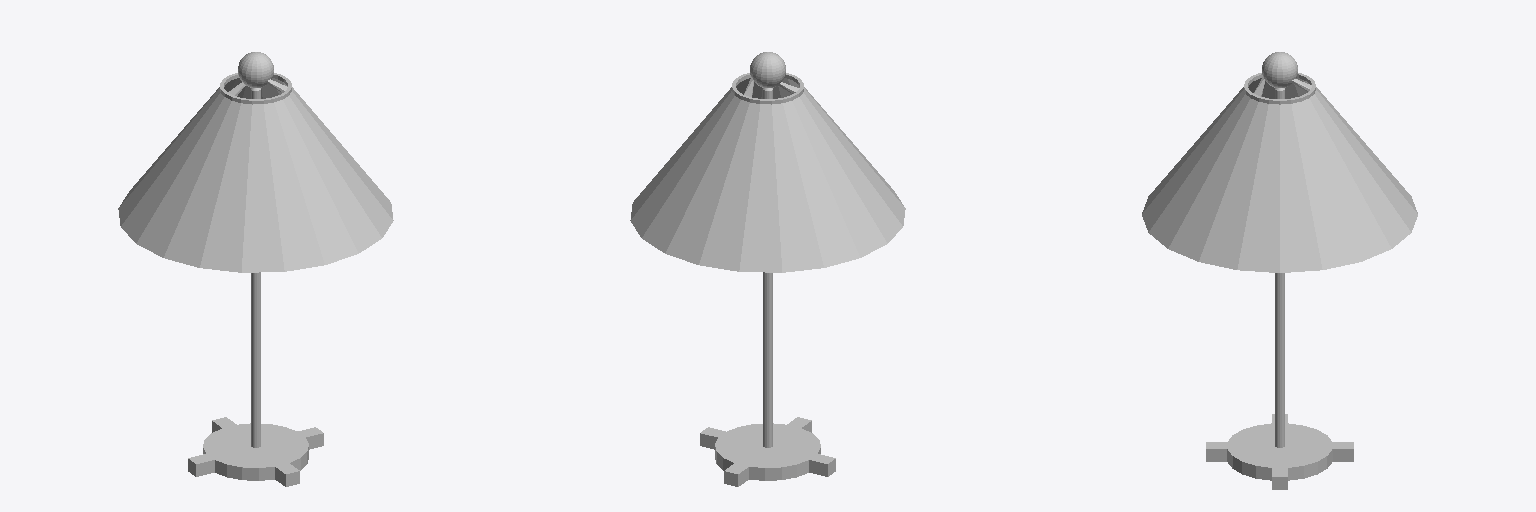
The model's file is LampUVmap.obj.
3 views of the same model, side by side, from view 1: azimuth 30°, elevation 25°; view 2: azimuth 150°, elevation 25°; view 3: azimuth 270°, elevation 25° (orthographic).
Parts seen in each view (by area): view 1: polySurface1; view 2: polySurface1; view 3: polySurface1.
Boxes of the visible parts, box(x1,y1,x2,y2) form: polySurface1: box(118, 52, 393, 486); polySurface1: box(630, 52, 905, 486); polySurface1: box(1142, 52, 1417, 489).
Size of the model in its own units: 85.65 by 138 by 85.65.